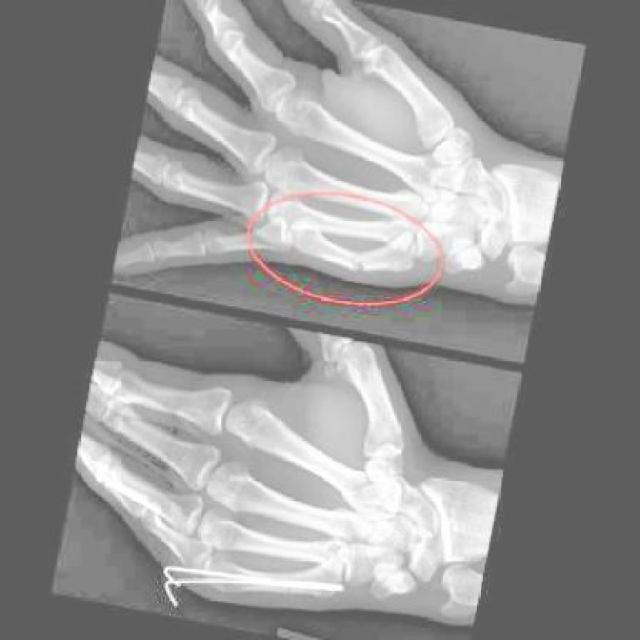Fracture: (336, 242, 382, 285), (268, 574, 305, 607)
